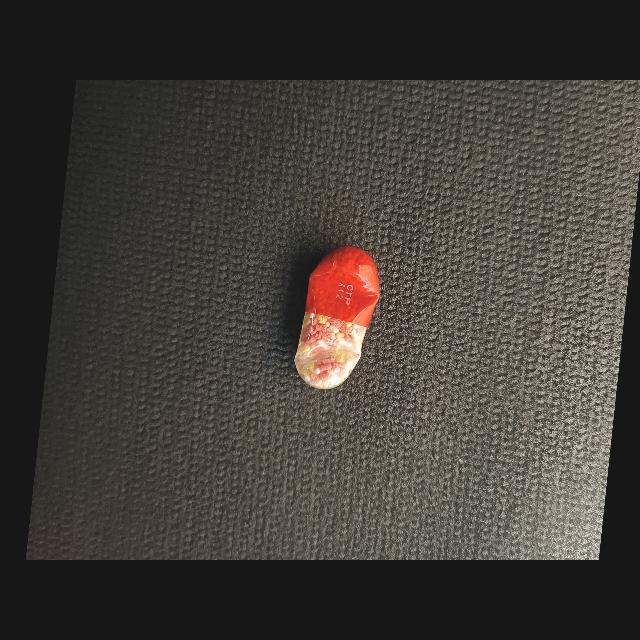Defective Capsule: (294, 245, 380, 390)
